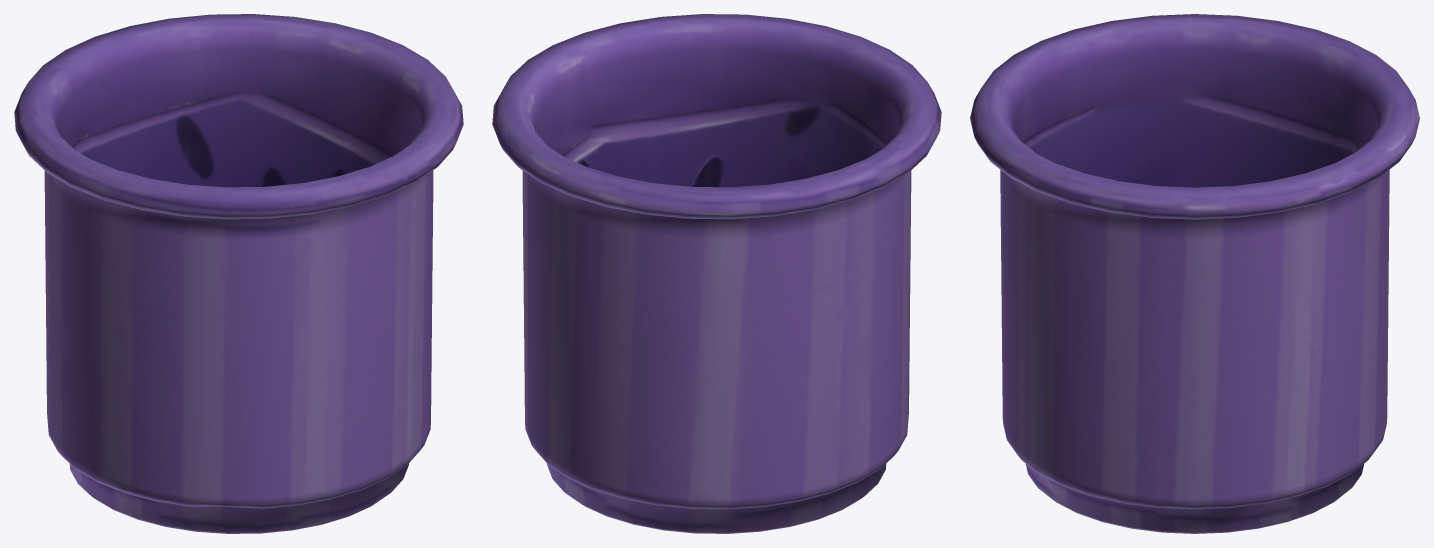
The model's file is 065-e_cups.dae.
3 renders of one model, left to right at view 1: azimuth 30°, elevation 25°; view 2: azimuth 150°, elevation 25°; view 3: azimuth 270°, elevation 25°, orthographic.
Visible parts, largest first — view 1: 065-e_cups; view 2: 065-e_cups; view 3: 065-e_cups.
Part boxes in pixels (x1,y1,x2,y2): 065-e_cups: [14, 14, 463, 533]; 065-e_cups: [492, 14, 941, 533]; 065-e_cups: [970, 14, 1419, 533].
Bounding box in the file's own units: 0.0812 × 0.0812 × 0.0716.
Materials: 1 (1 with a texture image).
